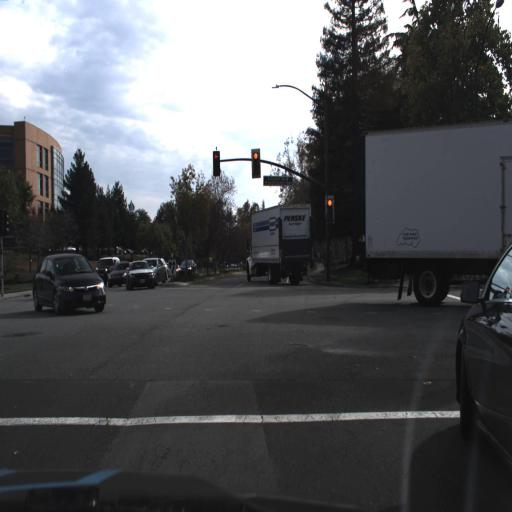car: (453, 232, 510, 505), (30, 250, 108, 317), (125, 259, 156, 288), (97, 254, 123, 280)
trafficLight-Red: (323, 195, 337, 230), (250, 146, 262, 179)
trafficLight-RedLeft: (211, 148, 221, 180)
truck: (361, 122, 511, 317), (245, 204, 313, 288)
